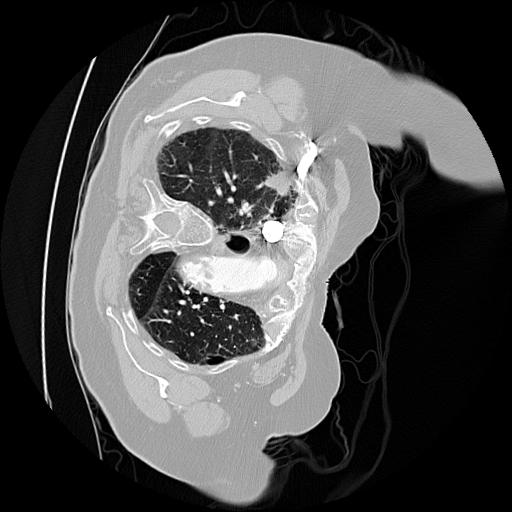nodule: (267, 167, 298, 198)
